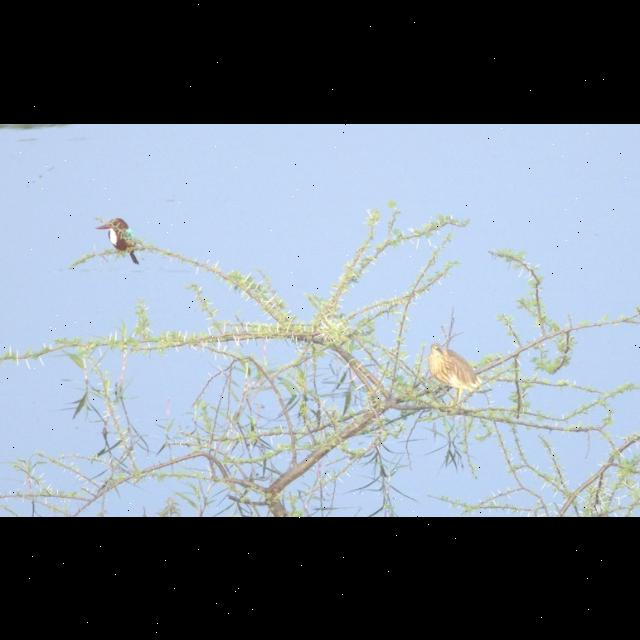heron: (413, 337, 485, 411), (94, 204, 142, 262)
